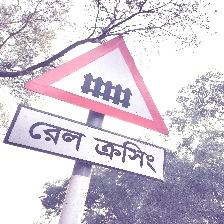Rail-crossing: (4, 36, 169, 185)
